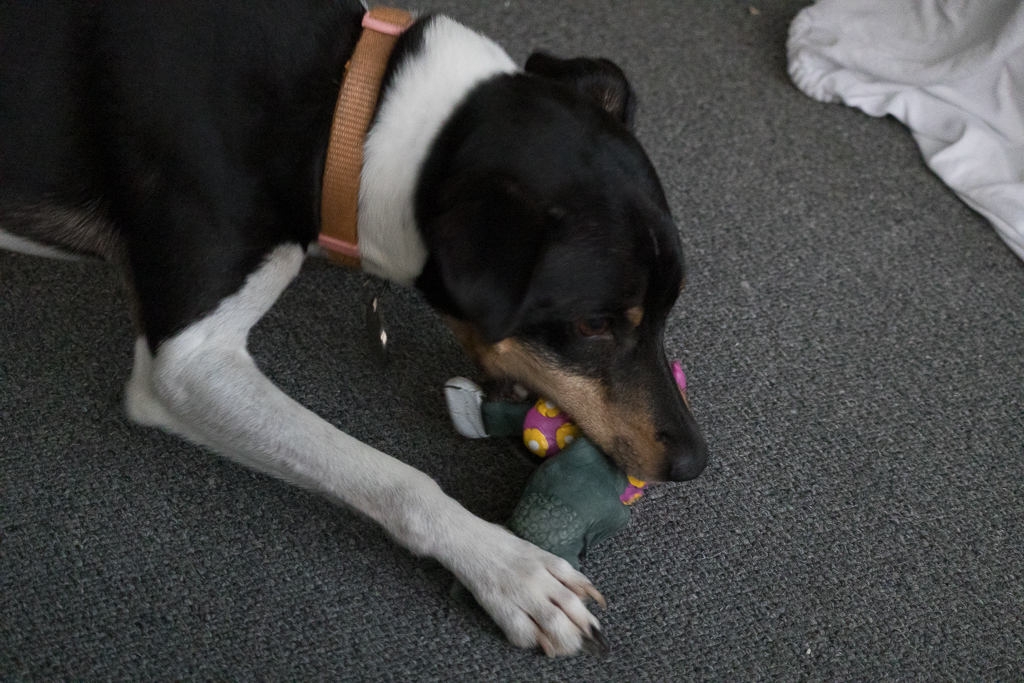Dog: (0, 0, 715, 669)
Humanoid: (421, 300, 709, 586)
